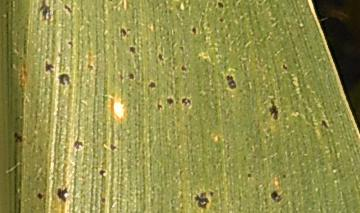tarspot: (34, 1, 52, 22), (193, 190, 211, 210), (267, 97, 280, 122), (56, 185, 69, 204), (224, 74, 237, 90), (57, 73, 73, 86), (62, 3, 75, 16), (270, 190, 282, 204), (12, 131, 24, 145), (43, 59, 54, 74), (72, 140, 85, 151), (319, 118, 330, 130), (146, 80, 158, 90), (118, 27, 128, 38), (108, 143, 118, 153), (156, 52, 166, 62), (181, 97, 192, 106), (128, 44, 137, 55), (165, 96, 174, 106), (189, 25, 198, 35), (127, 71, 136, 81), (179, 64, 188, 73), (86, 63, 95, 72), (98, 168, 106, 178), (207, 189, 215, 198), (36, 191, 43, 201), (155, 103, 163, 111), (217, 16, 225, 24), (216, 2, 224, 10), (67, 40, 74, 49), (177, 44, 184, 53), (281, 62, 288, 70), (281, 173, 287, 181), (246, 172, 252, 180), (118, 72, 124, 80)
